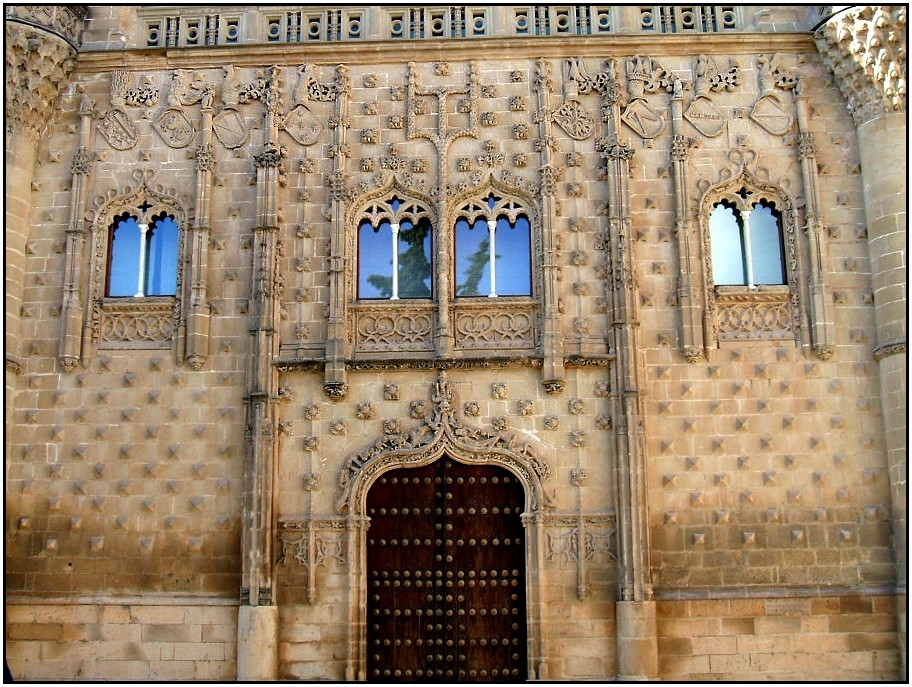arco-conopial: (348, 421, 544, 497), (694, 164, 803, 220), (85, 177, 192, 234), (446, 169, 542, 222), (346, 174, 441, 225)
